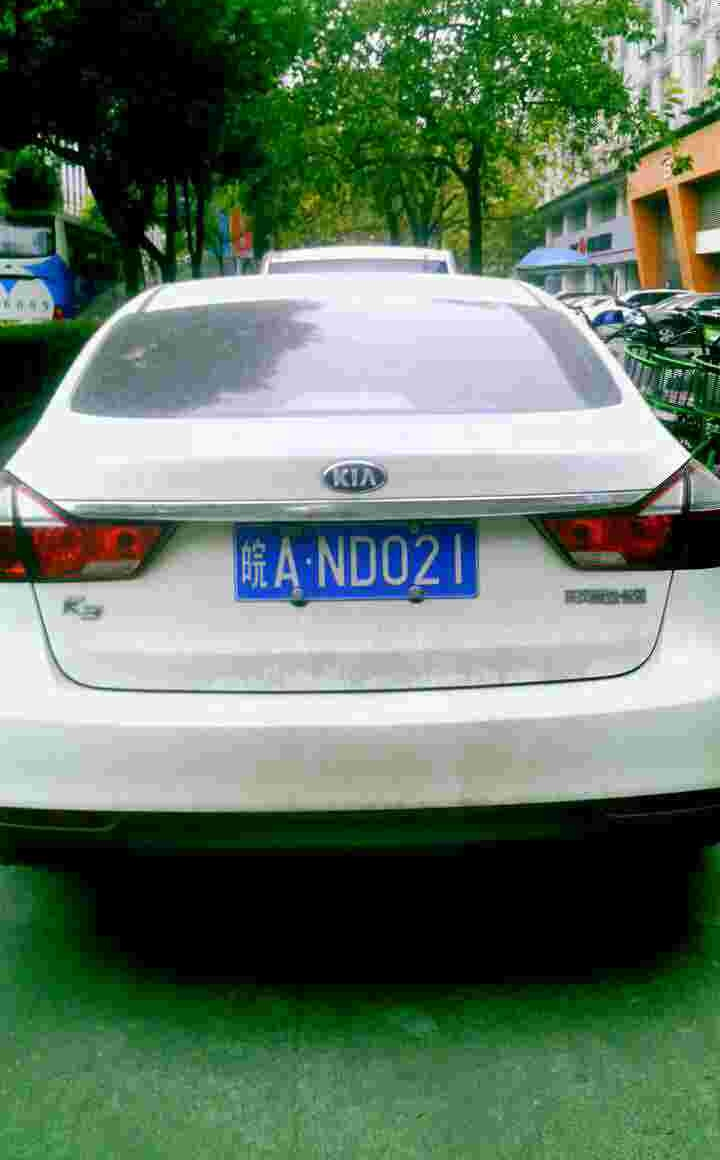license_plate: (243, 522, 471, 607)
